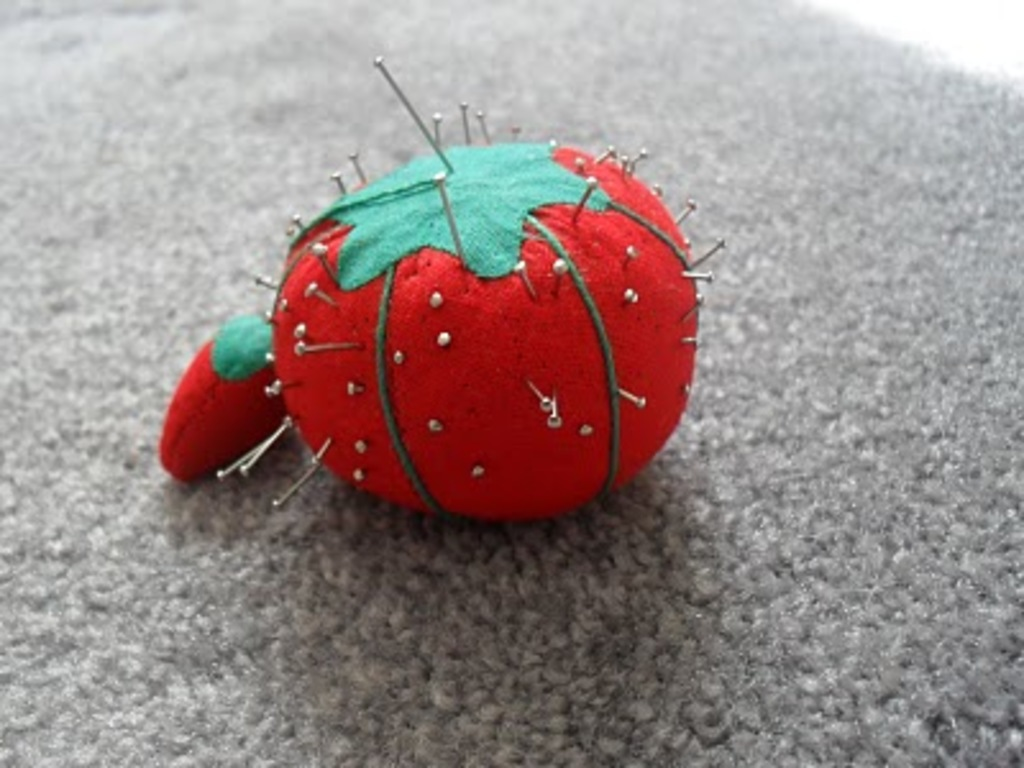Tomato: (273, 145, 701, 517), (151, 304, 279, 483)
